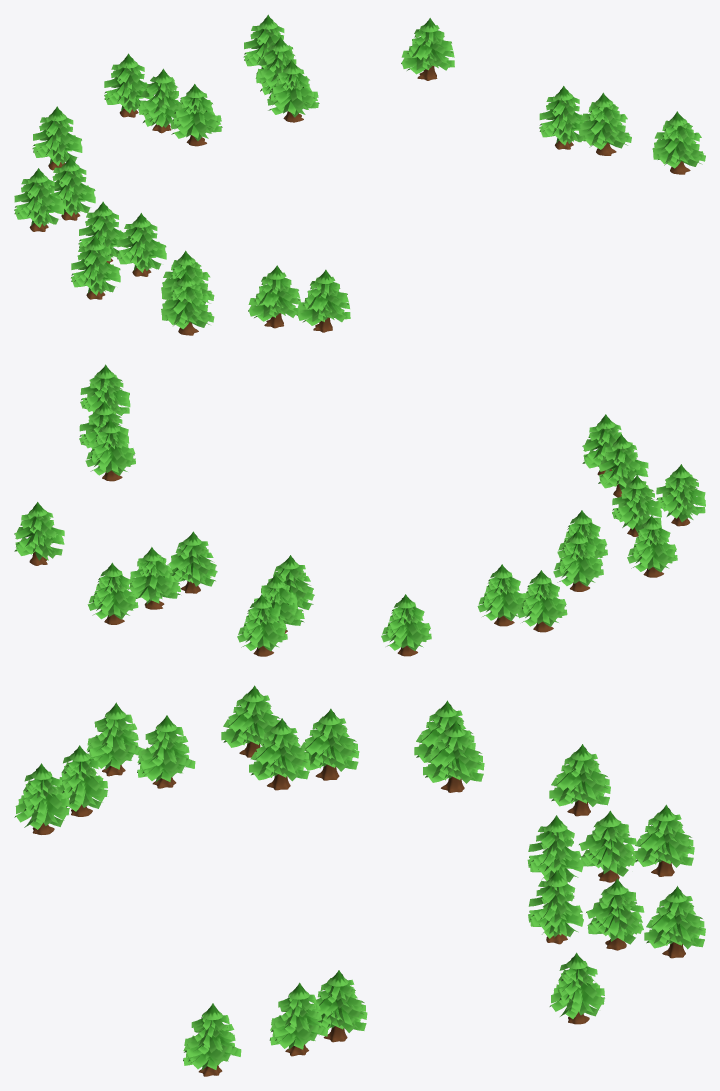
The model's file is Tree1.fbx.
3 renders of one model, top to bottom at view 1: azimuth 30°, elevation 25°; view 2: azimuth 150°, elevation 25°; view 3: azimuth 270°, elevation 25°, orthographic. The views are drawn at different scales.
Visible parts, largest first — view 1: Tree1; view 2: Tree1; view 3: Tree1.
Part boxes in pixels (x1,y1,x2,y2): Tree1: (14,14,705,335); Tree1: (14,364,705,656); Tree1: (14,685,705,1076).
Bounding box in the file's own units: 12194 × 1133 × 10386.
1 material, 1 textured.
